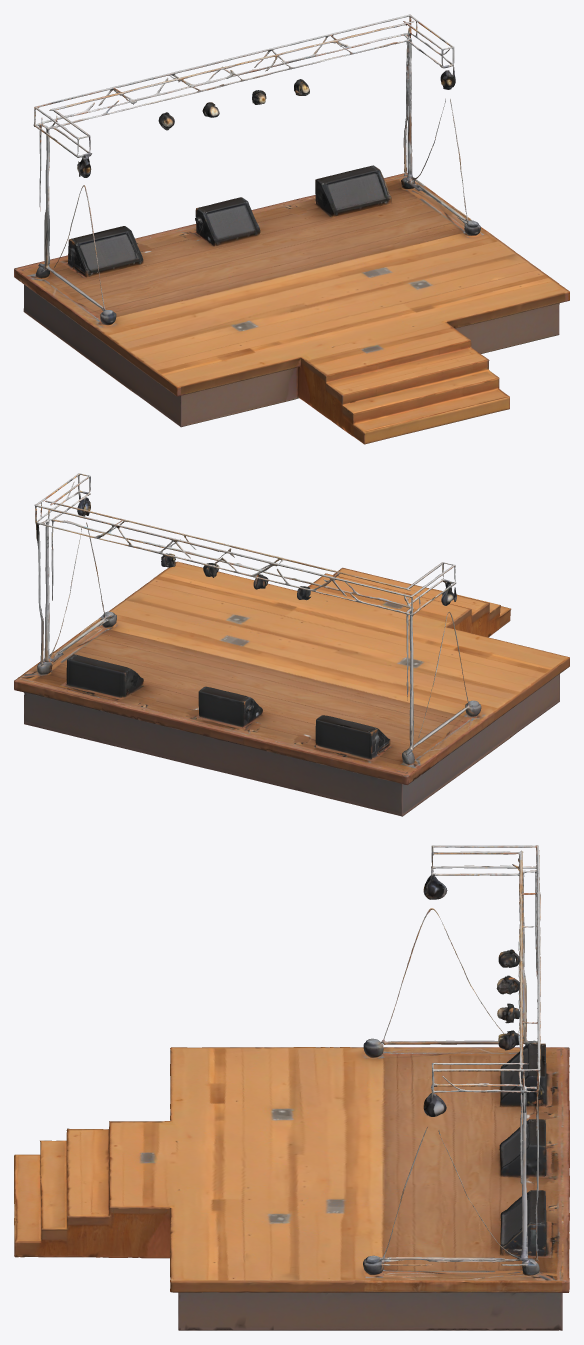
File: Meshy_AI_Concert_Stage_Ready_0220192442_texture.glb
3 views of the same model, one above another, from view 1: azimuth 30°, elevation 25°; view 2: azimuth 150°, elevation 25°; view 3: azimuth 270°, elevation 25° (orthographic). The views are drawn at different scales.
Bounding box in the file's own units: 2 × 1.04 × 2.
Materials: 1 (1 with a texture image).
